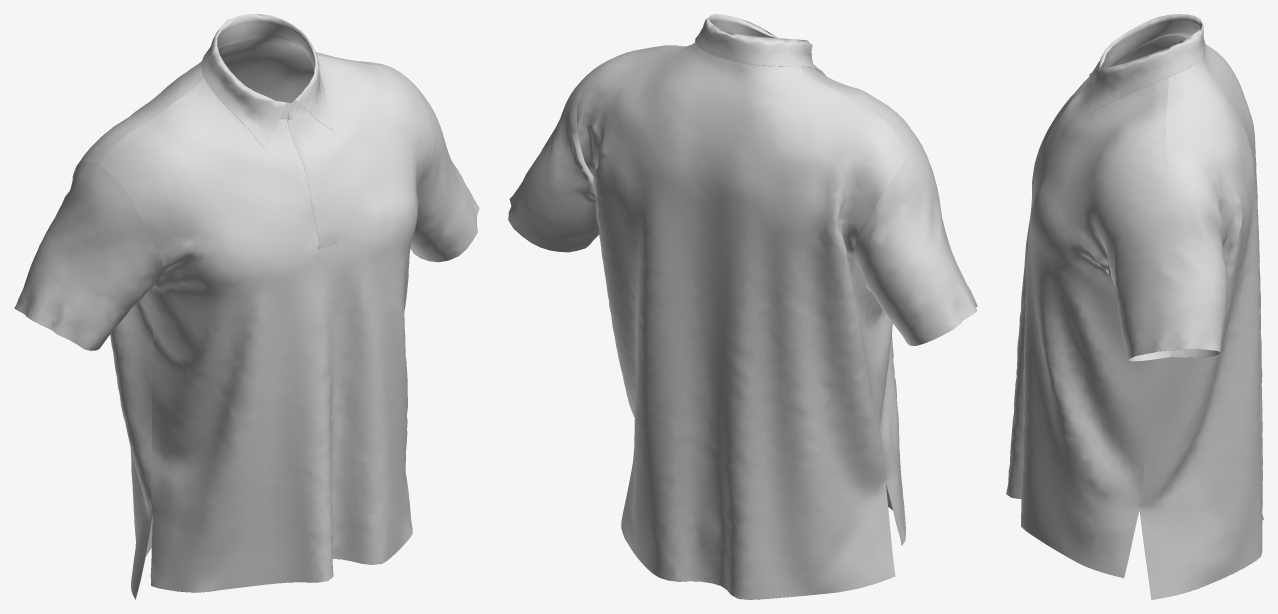
File: poloMale.glb
The picture shows the model from 3 angles, left to right: view 1: azimuth 30°, elevation 25°; view 2: azimuth 150°, elevation 25°; view 3: azimuth 270°, elevation 25°; orthographic projection. The views are drawn at different scales.
Visible parts, largest first — view 1: polo; view 2: polo; view 3: polo.
Part boxes in pixels (x1,y1,x2,y2): polo: (14, 14, 479, 599); polo: (508, 14, 977, 599); polo: (1006, 14, 1263, 599).
Size of the model in its own units: 6.98 by 7.86 by 3.55.
1 material, 1 textured.
